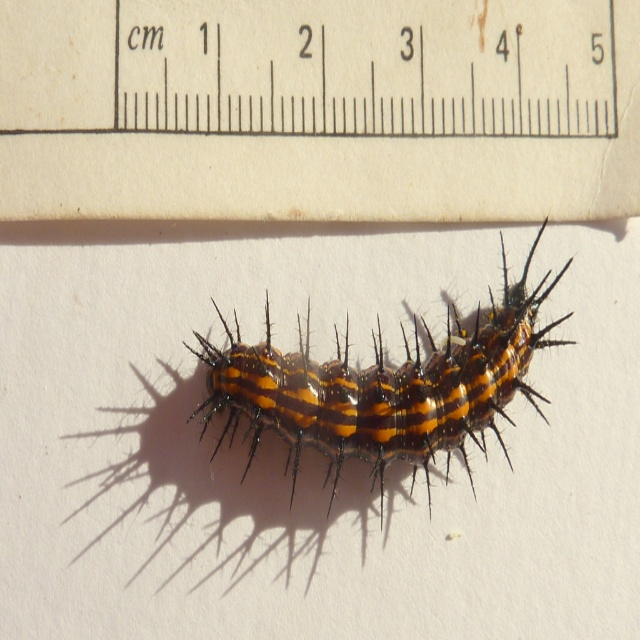Centipede: (181, 204, 582, 534)
